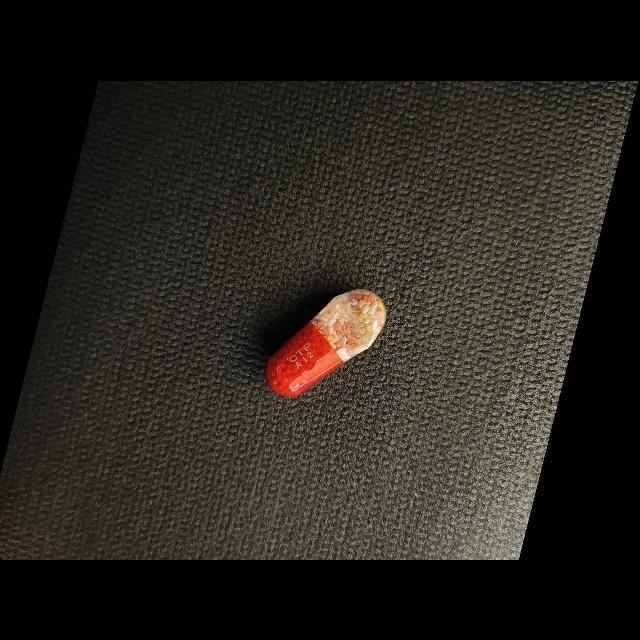Defective Capsule: (265, 288, 386, 396)
